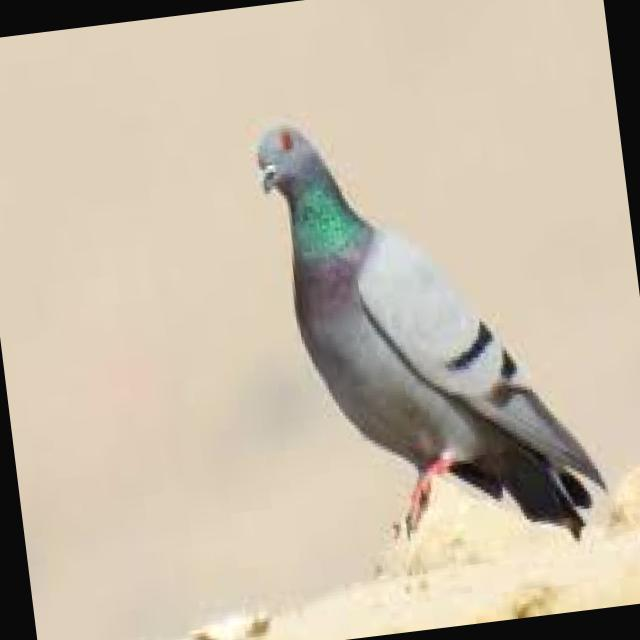bird: (244, 82, 618, 584)
